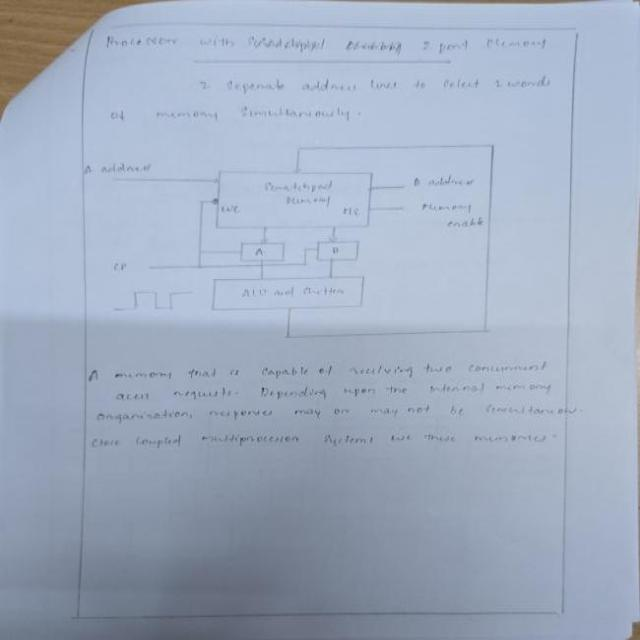Figure Detection - v3 Dataset Version2: (72, 137, 512, 349)
